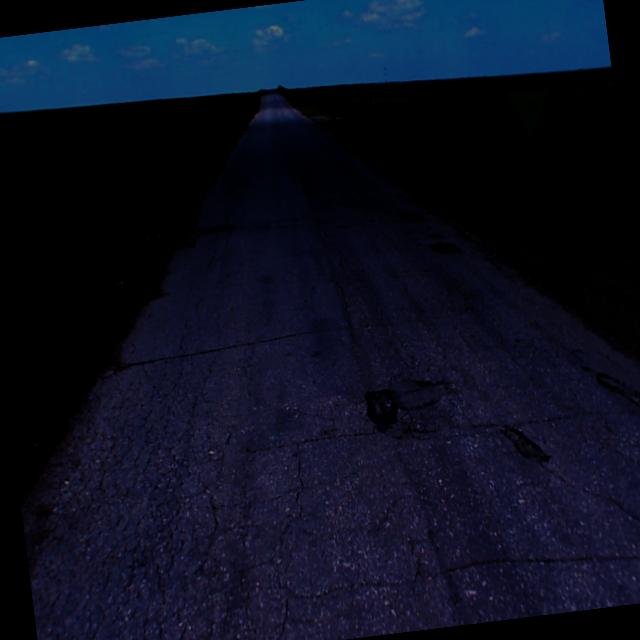road: (21, 87, 640, 640)
